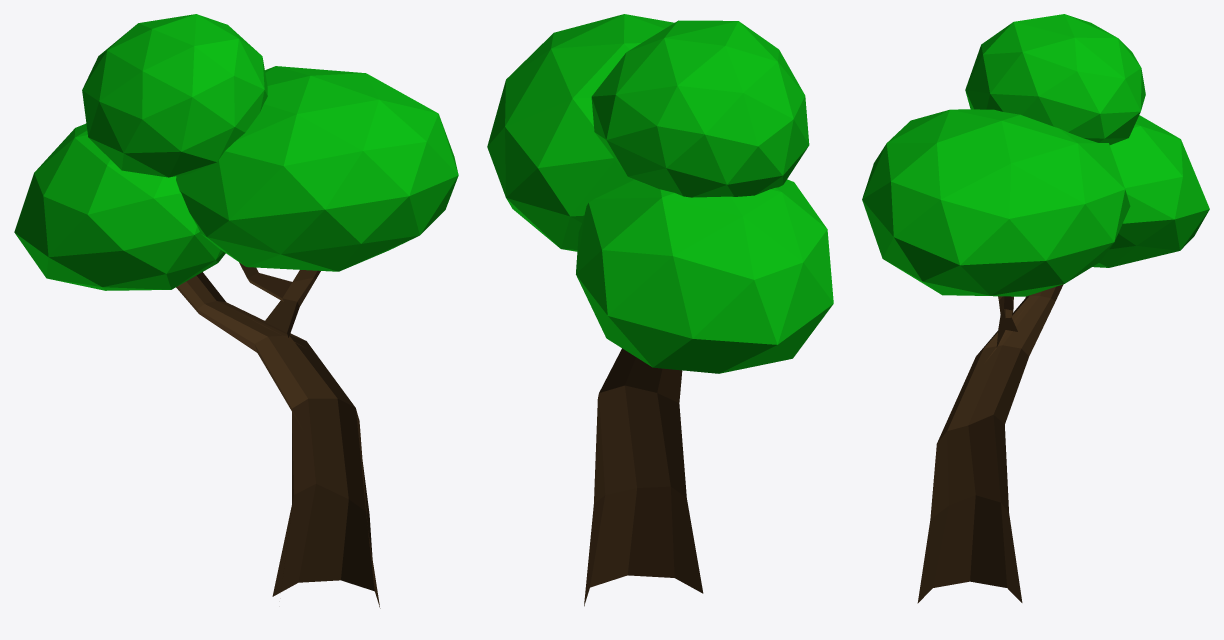
File: plant_tree_play_c.glb
3 renders of one model, left to right at view 1: azimuth 30°, elevation 25°; view 2: azimuth 150°, elevation 25°; view 3: azimuth 270°, elevation 25°, orthographic. The views are drawn at different scales.
Parts seen in each view (by area): view 1: tree.002; view 2: tree.002; view 3: tree.002.
Part boxes in pixels (<box>): tree.002: <box>14,14,458,608</box>; tree.002: <box>487,14,833,606</box>; tree.002: <box>862,14,1209,603</box>.
Bounding box in the file's own units: 3.59 × 5.61 × 3.32.
